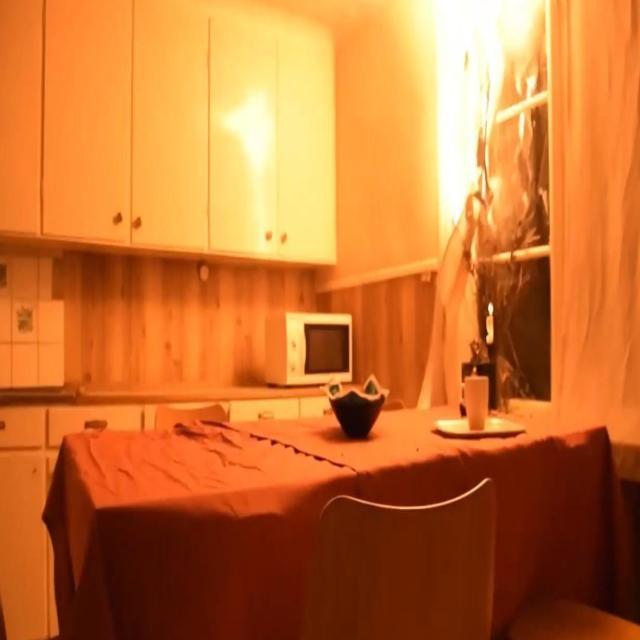smoke: (435, 0, 535, 236), (486, 298, 494, 314)
